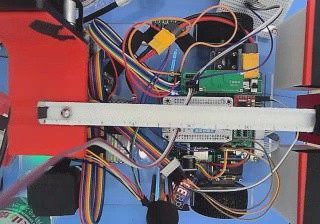ironball: (60, 107, 71, 117)
